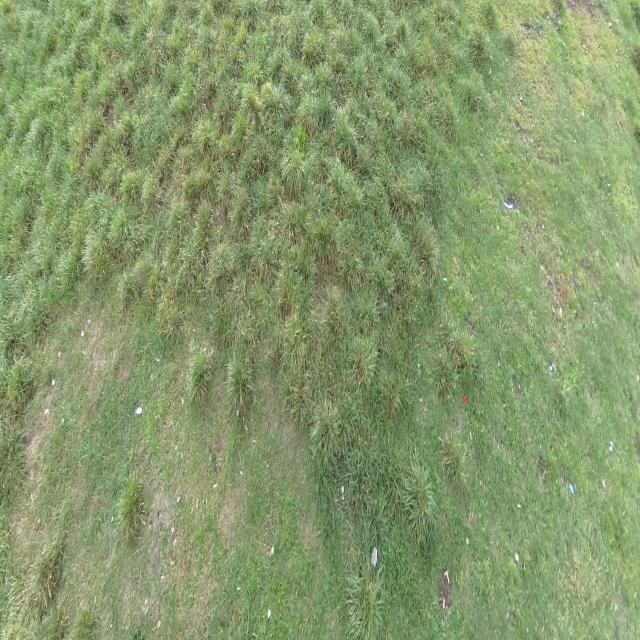rubbish: (464, 395, 467, 403)
